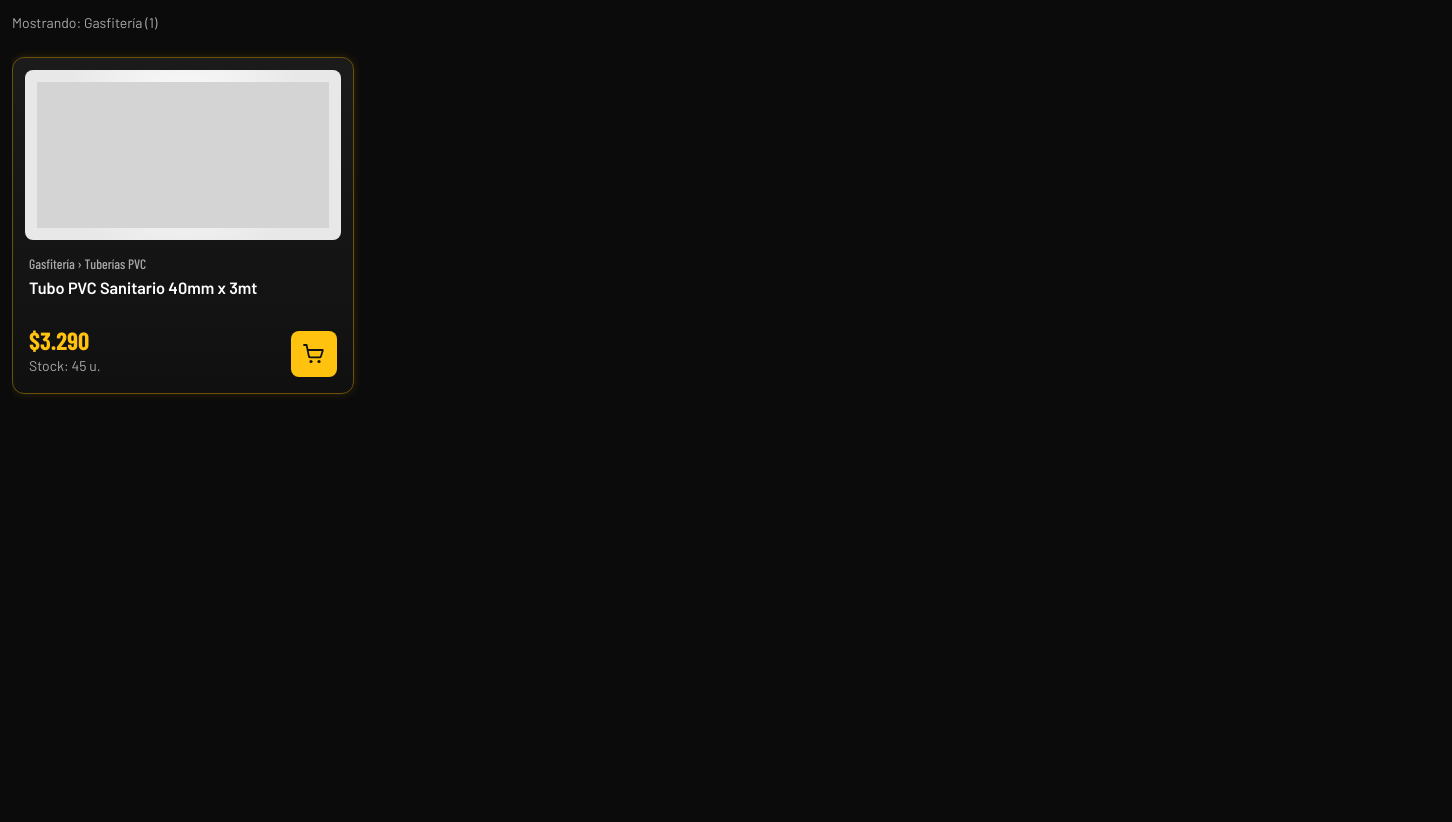
it: Componente Catalogo › al añadir al carro guarda el producto y muestra un aviso
Click the button named "Añadir Tubo PVC Sanitario 40mm x 3mt al carro": (314, 354) [291,331,337,377]
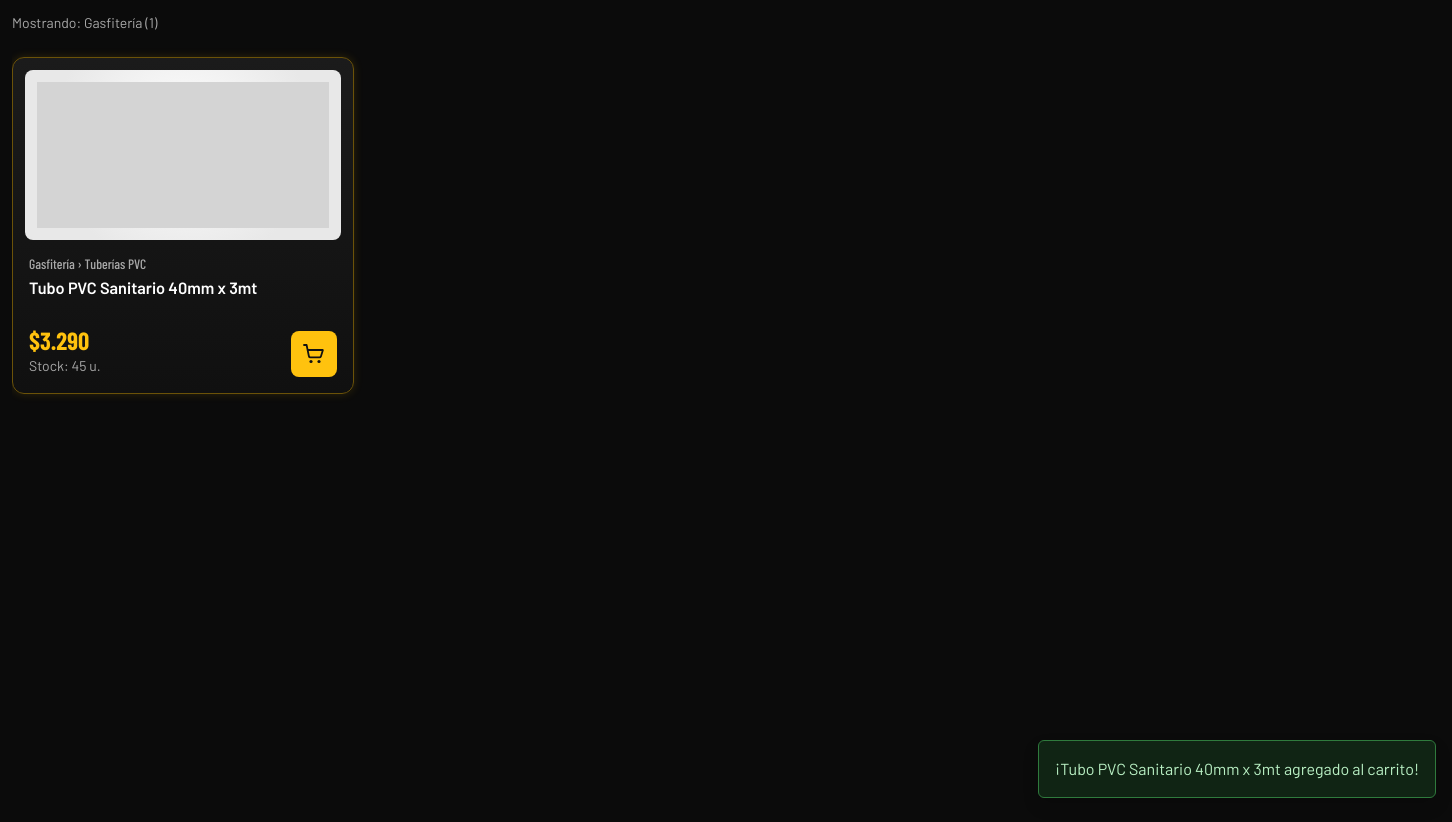
Now the message "¡Tubo PVC Sanitario 40mm x 3mt agregado al carrito!" is shown, box [1038,740,1436,798]
